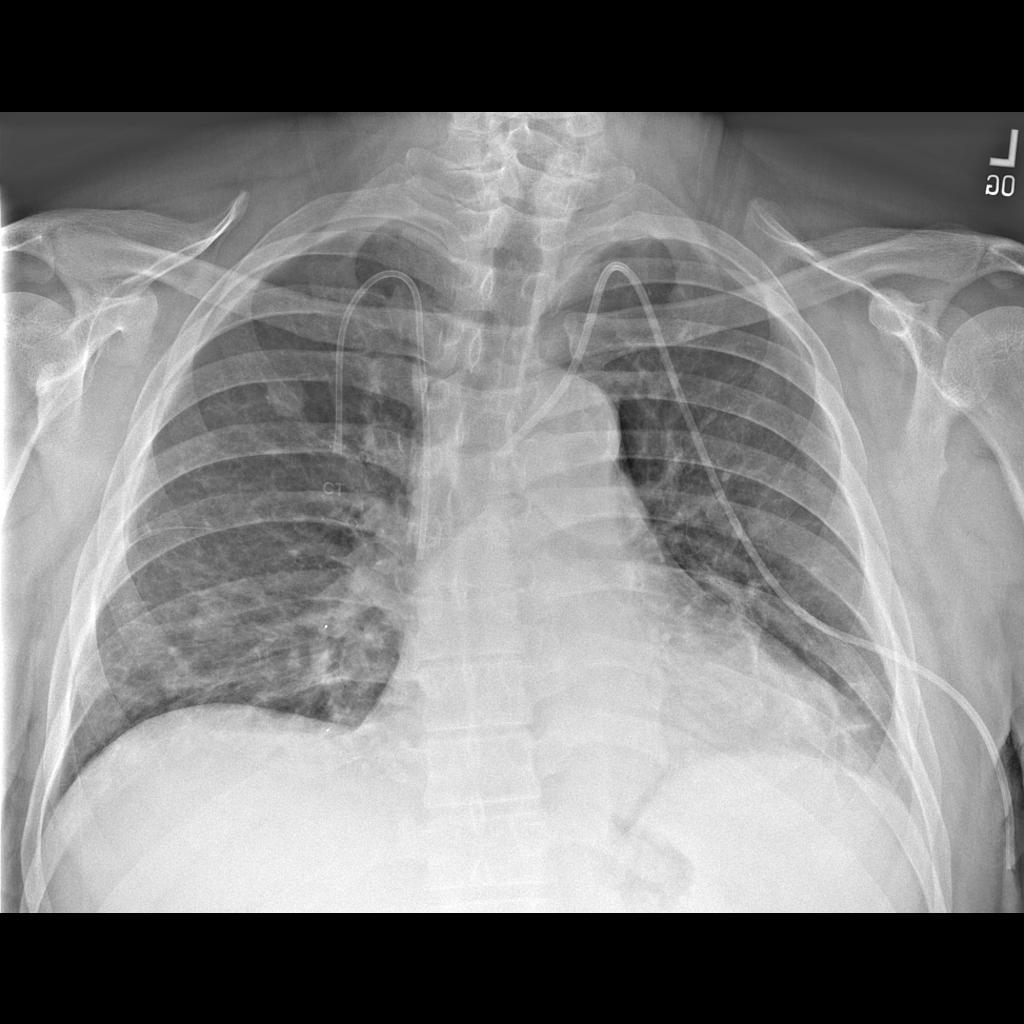Nodule: (262, 365, 298, 416)
